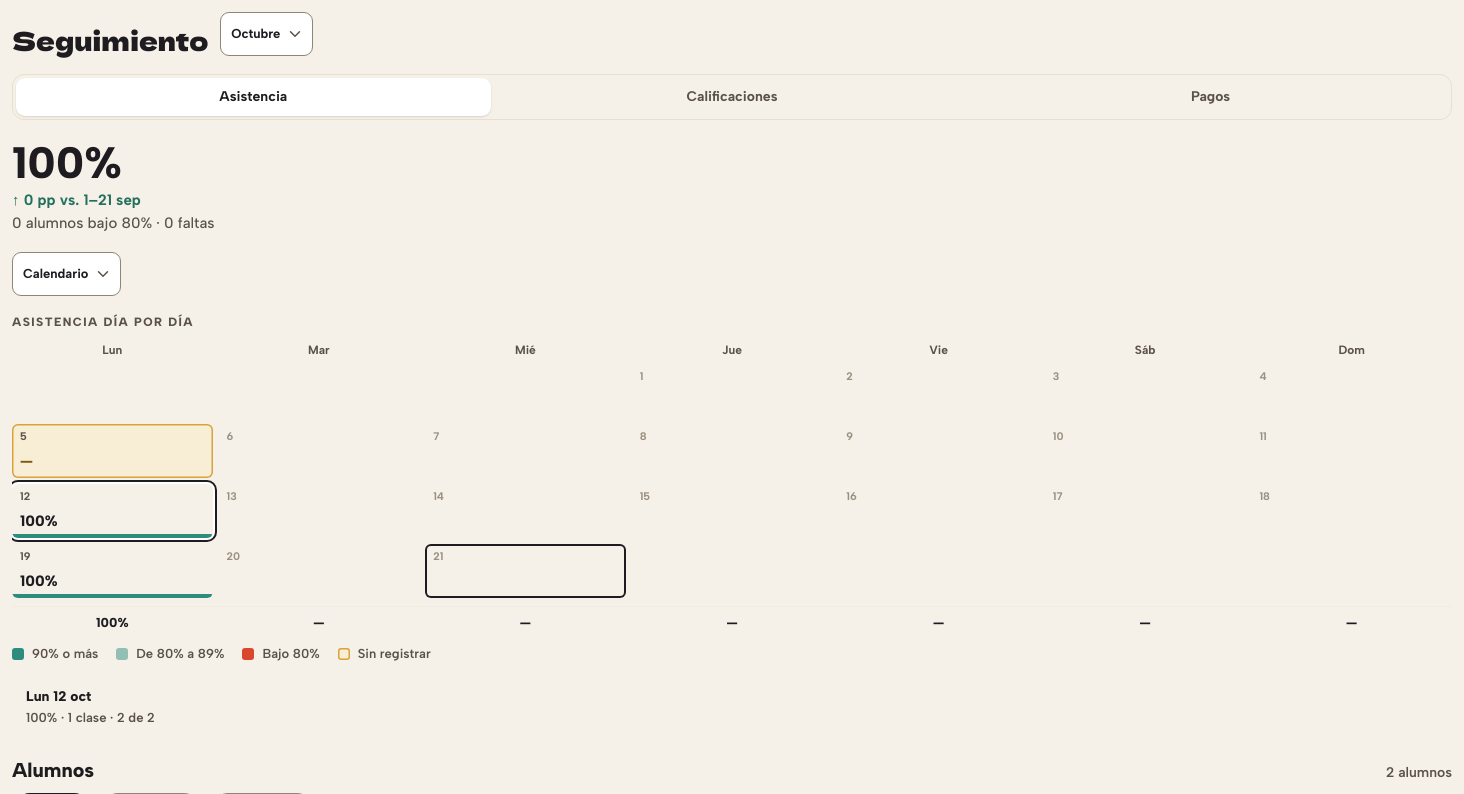
Test: Tracking money › says it in Spanish on a phone
Click the button "Pagos": coordinates (1211, 97) [973, 78, 1448, 116]
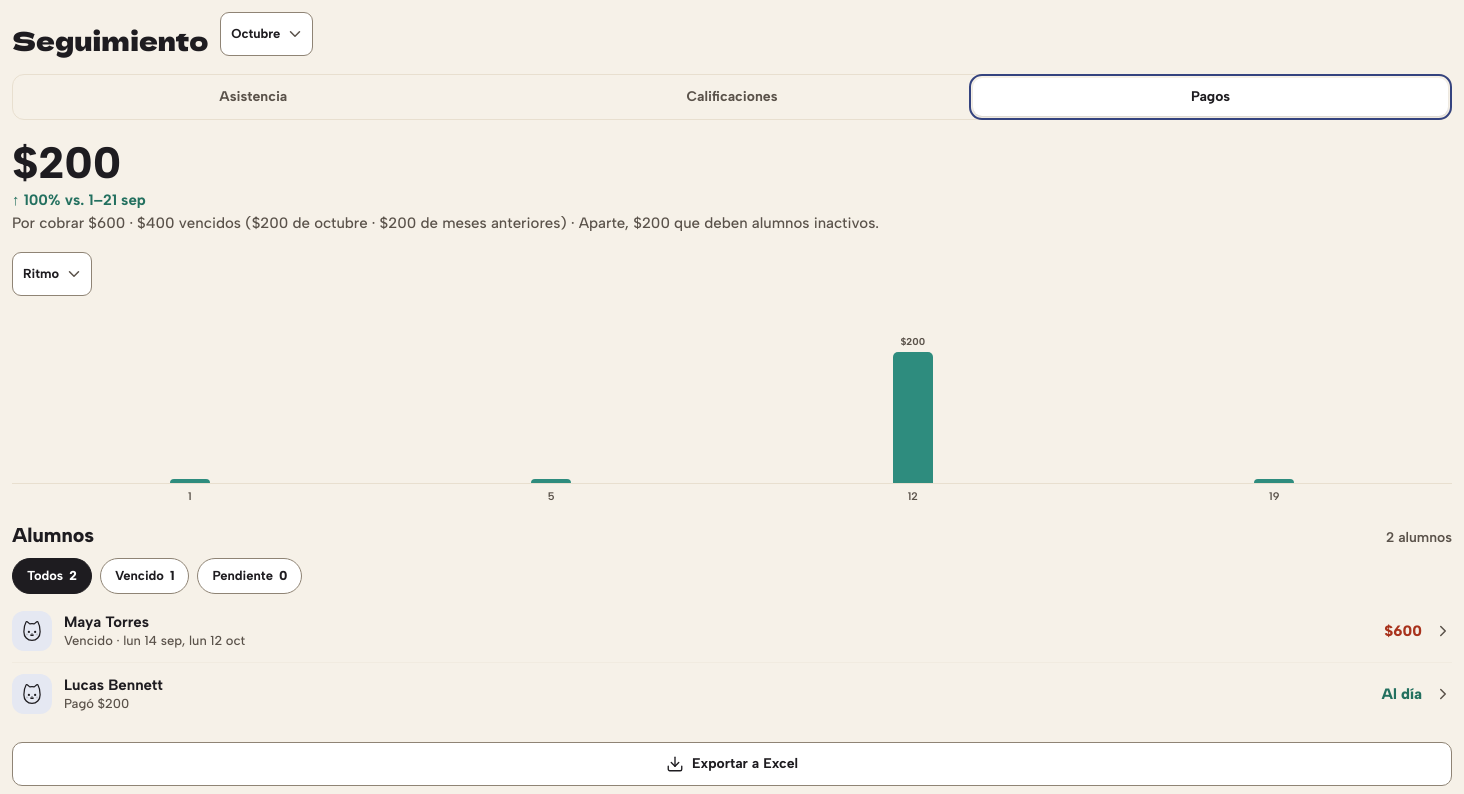
expect the element with class "tracking-hero" shows "↑ 100% vs. 1–21 sep": met, box [12, 191, 146, 209]
expect the element with class "tracking-hero" shows "Por cobrar $600 · $400 vencidos ($200 de octubre · $200 de meses anteriores) · Aparte, $200 que deben alumnos inactivos.": met, box [12, 214, 879, 232]
